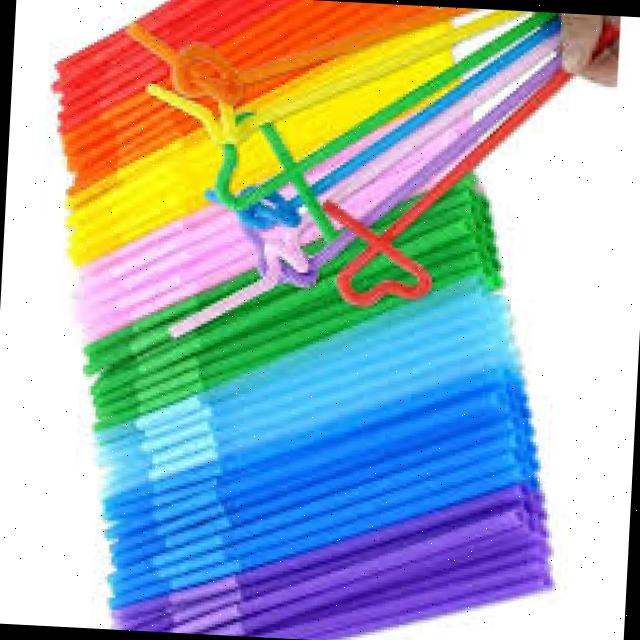plastic: (301, 72, 621, 329)
